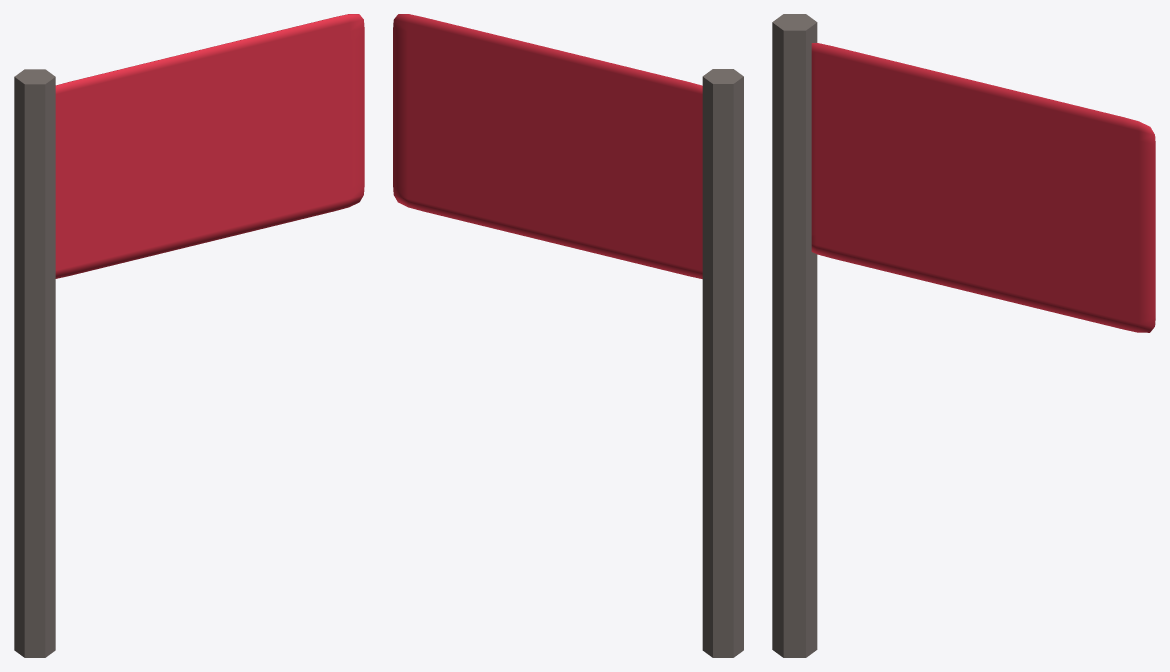
Rendered from 2_2 Flag_cloth.fbx.
3 renders of one model, left to right at view 1: azimuth 30°, elevation 25°; view 2: azimuth 150°, elevation 25°; view 3: azimuth 330°, elevation 25°, orthographic. The views are drawn at different scales.
Parts seen in each view (by area): view 1: Flag.002, Flagpost.003; view 2: Flag.002, Flagpost.003; view 3: Flag.002, Flagpost.003.
Boxes of the visible parts, box(x1,y1,x2,y2) form: Flag.002: box(55, 14, 364, 278); Flagpost.003: box(14, 69, 55, 657); Flag.002: box(393, 14, 702, 278); Flagpost.003: box(702, 69, 743, 657); Flag.002: box(811, 43, 1155, 332); Flagpost.003: box(772, 14, 817, 657).
Size of the model in its own units: 261 by 415 by 27.06.
